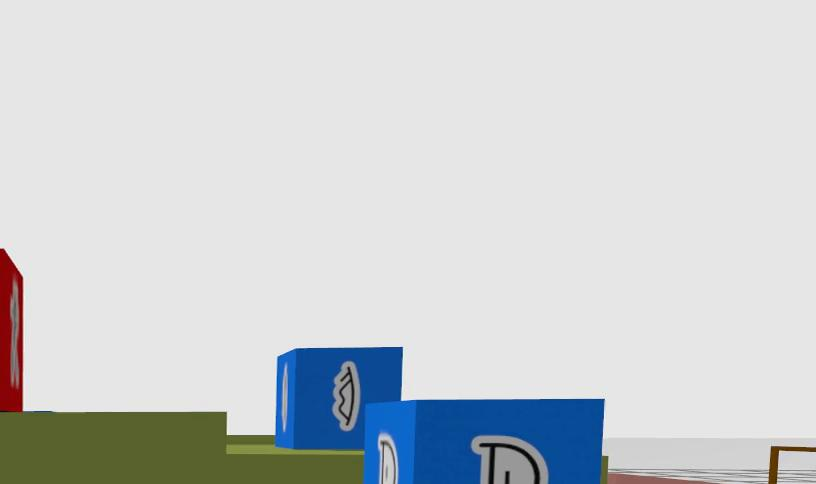KFS_FAKE: (0, 249, 23, 409)
KFS_REAL: (359, 400, 603, 484), (276, 346, 402, 448), (471, 435, 546, 484), (331, 362, 359, 431), (332, 362, 359, 430), (376, 432, 398, 484)
